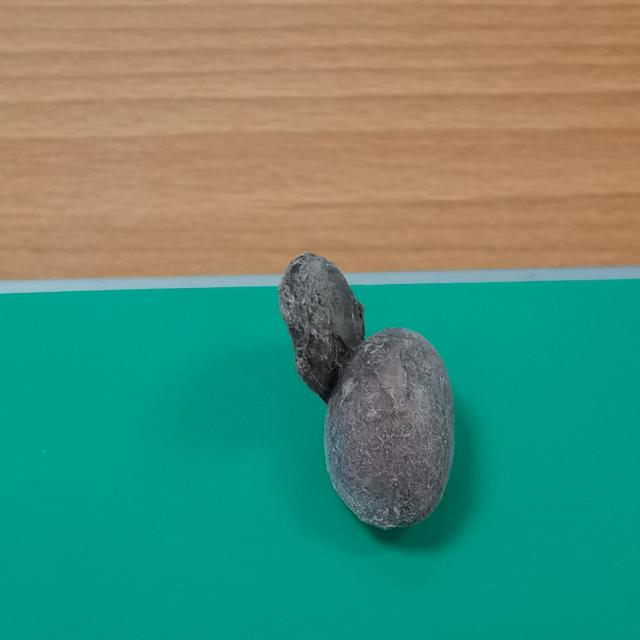Agglomerated_cocoabeans: (205, 254, 514, 569)
